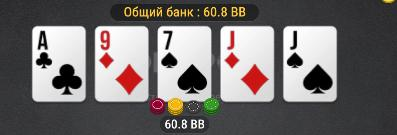7s: (159, 28, 211, 102)
9d: (95, 28, 149, 101)
Ac: (34, 28, 85, 100)
Jd: (222, 27, 273, 102)
Js: (285, 29, 336, 100)
